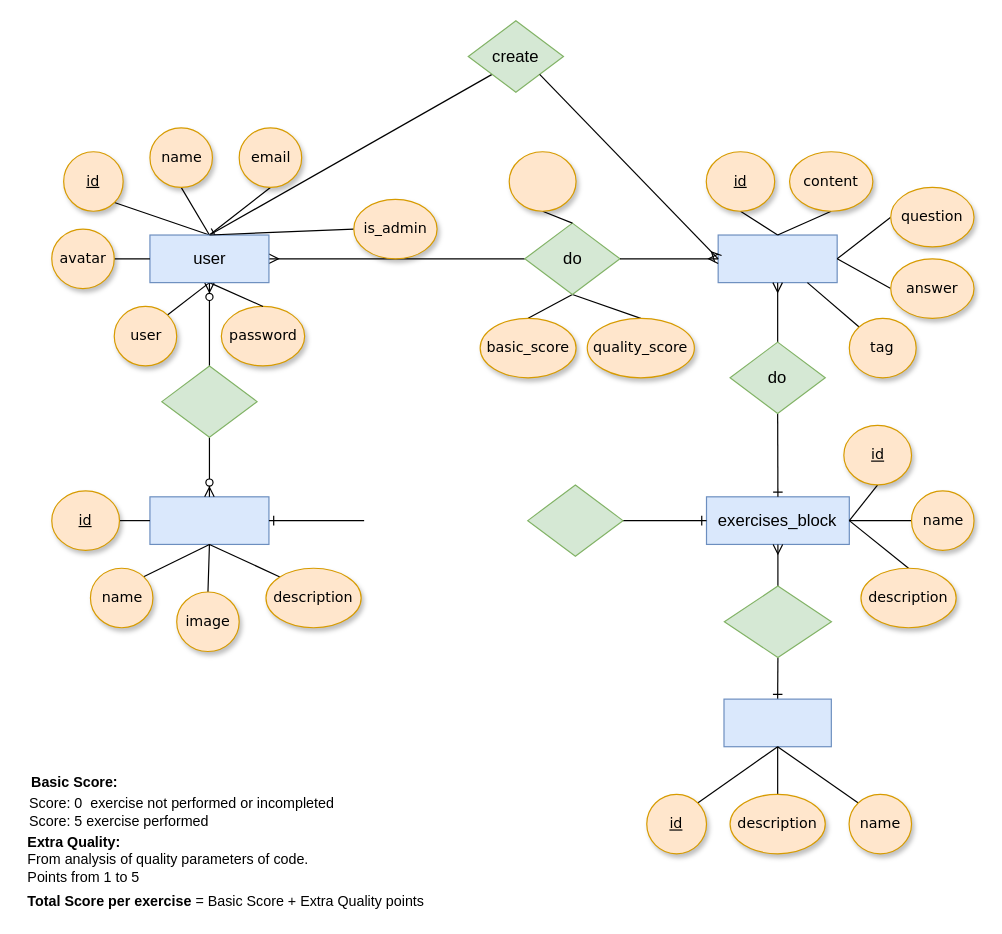
The diagram is 1002 pixels wide and 934 high, and some of its shapes have lost their labels. Each missing label, with the centre of its shape:
"badge" belongs at (209,520).
"composed" belongs at (777,621).
"course" belongs at (777,722).
"date" belongs at (543,183).
"exercise" belongs at (777,258).
"get" belongs at (209,401).
"overcome" belongs at (575,520).
